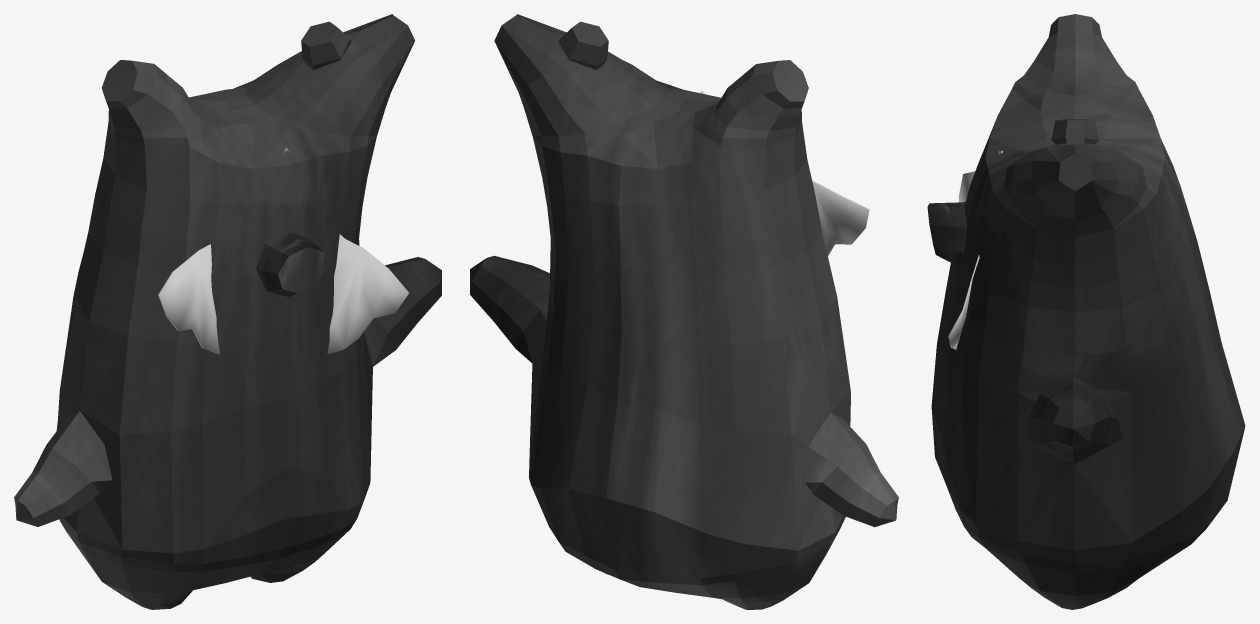
The model's file is frame_0047.obj.
3 renders of one model, left to right at view 1: azimuth 30°, elevation 25°; view 2: azimuth 150°, elevation 25°; view 3: azimuth 270°, elevation 25°, orthographic. The views are drawn at different scales.
Visible parts, largest first — view 1: korok, leaf, nose; view 2: korok, leaf; view 3: korok, nose, leaf.
Part boxes in pixels (x1,y1,x2,y2): korok: (14,14,441,609); leaf: (158,147,408,354); nose: (256,232,327,296); korok: (470,14,898,609); leaf: (700,90,869,255); korok: (931,14,1245,609); nose: (927,202,967,265); leaf: (948,150,1002,349).
Size of the model in its own units: 1.74 by 2.17 by 1.18.
